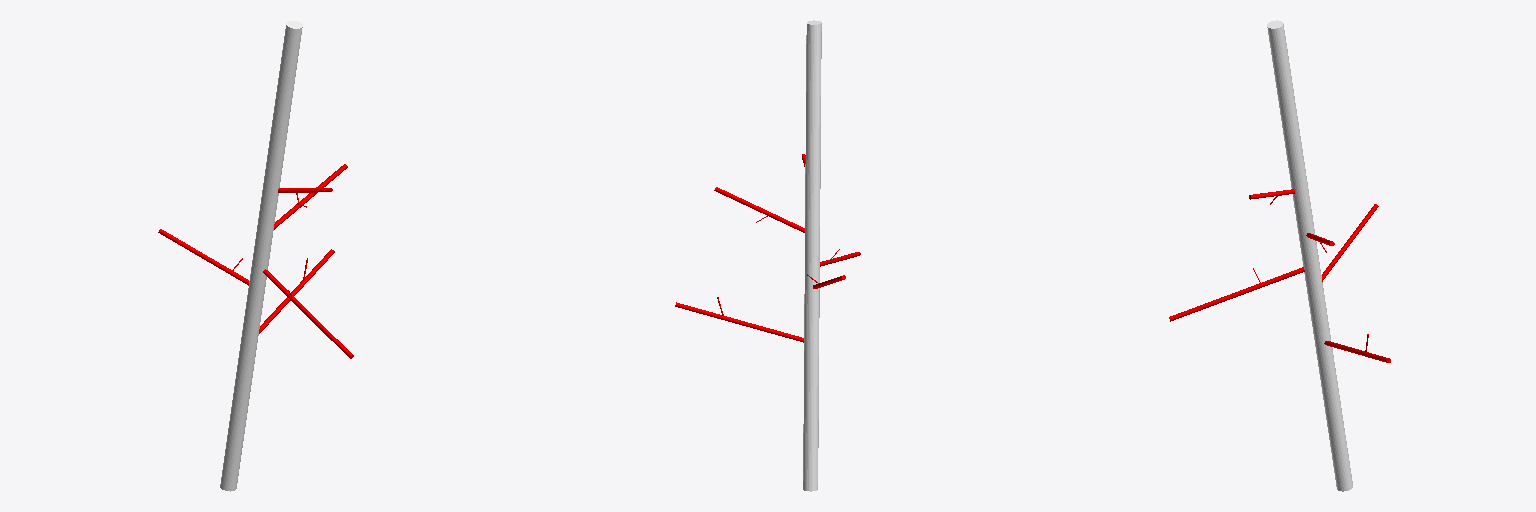
The robot description file, URDF, robot "tree_151.urdf":
<?xml version='1.0' encoding='UTF-8'?>
<robot name="tree_151.urdf">
  <link name="branch_0">
    <inertial>
      <origin xyz="0.0 0.0 0.0" rpy="0.0 -0.0 0.0"/>
      <mass value="0.1"/>
      <inertia ixx="0.001" ixy="0.0" ixz="0.0" iyy="0.001" iyz="0.0" izz="0.001"/>
    </inertial>
    <visual name="branch_0_visual">
      <geometry>
        <cylinder radius="0.1843684669169448" length="11.807824451220128"/>
      </geometry>
      <material name="branch_material"/>
      <origin xyz="0.3952940185820653 -0.7719728211829342 5.839861314272461" rpy="-1.3877787807814457e-17 0.1474351806552163 -1.0975497782615293"/>
    </visual>
    <collision name="branch_0_collision">
      <geometry>
        <cylinder radius="0.1843684669169448" length="11.807824451220128"/>
      </geometry>
      <origin xyz="0.3952940185820653 -0.7719728211829342 5.839861314272461" rpy="-1.3877787807814457e-17 0.1474351806552163 -1.0975497782615293"/>
    </collision>
  </link>
  <link name="branch_1">
    <inertial>
      <origin xyz="0.0 0.0 0.0" rpy="0.0 -0.0 0.0"/>
      <mass value="0.1"/>
      <inertia ixx="0.001" ixy="0.0" ixz="0.0" iyy="0.001" iyz="0.0" izz="0.001"/>
    </inertial>
    <visual name="branch_1_visual">
      <geometry>
        <cylinder radius="0.05433070433856177" length="3.360942453250133"/>
      </geometry>
      <material name="semantic_material"/>
      <origin xyz="0.0 0.0 0.0" rpy="0.0 -0.0 0.0"/>
    </visual>
    <collision name="branch_1_collision">
      <geometry>
        <cylinder radius="0.05433070433856177" length="3.360942453250133"/>
      </geometry>
      <origin xyz="0.0 0.0 0.0" rpy="0.0 -0.0 0.0"/>
    </collision>
  </link>
  <link name="branch_2">
    <inertial>
      <origin xyz="0.0 0.0 0.0" rpy="0.0 -0.0 0.0"/>
      <mass value="0.1"/>
      <inertia ixx="0.001" ixy="0.0" ixz="0.0" iyy="0.001" iyz="0.0" izz="0.001"/>
    </inertial>
    <visual name="branch_2_visual">
      <geometry>
        <cylinder radius="0.011386589932218654" length="0.42917379585788823"/>
      </geometry>
      <material name="semantic_material"/>
      <origin xyz="0.0 0.0 0.0" rpy="0.0 -0.0 0.0"/>
    </visual>
    <collision name="branch_2_collision">
      <geometry>
        <cylinder radius="0.011386589932218654" length="0.42917379585788823"/>
      </geometry>
      <origin xyz="0.0 0.0 0.0" rpy="0.0 -0.0 0.0"/>
    </collision>
  </link>
  <link name="branch_3">
    <inertial>
      <origin xyz="0.0 0.0 0.0" rpy="0.0 -0.0 0.0"/>
      <mass value="0.1"/>
      <inertia ixx="0.001" ixy="0.0" ixz="0.0" iyy="0.001" iyz="0.0" izz="0.001"/>
    </inertial>
    <visual name="branch_3_visual">
      <geometry>
        <cylinder radius="0.054991682069621496" length="3.4281170601098667"/>
      </geometry>
      <material name="semantic_material"/>
      <origin xyz="0.0 0.0 0.0" rpy="0.0 -0.0 0.0"/>
    </visual>
    <collision name="branch_3_collision">
      <geometry>
        <cylinder radius="0.054991682069621496" length="3.4281170601098667"/>
      </geometry>
      <origin xyz="0.0 0.0 0.0" rpy="0.0 -0.0 0.0"/>
    </collision>
  </link>
  <link name="branch_4">
    <inertial>
      <origin xyz="0.0 0.0 0.0" rpy="0.0 -0.0 0.0"/>
      <mass value="0.1"/>
      <inertia ixx="0.001" ixy="0.0" ixz="0.0" iyy="0.001" iyz="0.0" izz="0.001"/>
    </inertial>
    <visual name="branch_4_visual">
      <geometry>
        <cylinder radius="0.017578132800000243" length="0.5646324961886241"/>
      </geometry>
      <material name="semantic_material"/>
      <origin xyz="0.0 0.0 0.0" rpy="0.0 -0.0 0.0"/>
    </visual>
    <collision name="branch_4_collision">
      <geometry>
        <cylinder radius="0.017578132800000243" length="0.5646324961886241"/>
      </geometry>
      <origin xyz="0.0 0.0 0.0" rpy="0.0 -0.0 0.0"/>
    </collision>
  </link>
  <link name="branch_5">
    <inertial>
      <origin xyz="0.0 0.0 0.0" rpy="0.0 -0.0 0.0"/>
      <mass value="0.1"/>
      <inertia ixx="0.001" ixy="0.0" ixz="0.0" iyy="0.001" iyz="0.0" izz="0.001"/>
    </inertial>
    <visual name="branch_5_visual">
      <geometry>
        <cylinder radius="0.053348926852916284" length="2.497725522281918"/>
      </geometry>
      <material name="semantic_material"/>
      <origin xyz="0.0 0.0 0.0" rpy="0.0 -0.0 0.0"/>
    </visual>
    <collision name="branch_5_collision">
      <geometry>
        <cylinder radius="0.053348926852916284" length="2.497725522281918"/>
      </geometry>
      <origin xyz="0.0 0.0 0.0" rpy="0.0 -0.0 0.0"/>
    </collision>
  </link>
  <link name="branch_6">
    <inertial>
      <origin xyz="0.0 0.0 0.0" rpy="0.0 -0.0 0.0"/>
      <mass value="0.1"/>
      <inertia ixx="0.001" ixy="0.0" ixz="0.0" iyy="0.001" iyz="0.0" izz="0.001"/>
    </inertial>
    <visual name="branch_6_visual">
      <geometry>
        <cylinder radius="0.014597719540480773" length="0.4150816422447977"/>
      </geometry>
      <material name="semantic_material"/>
      <origin xyz="0.0 0.0 0.0" rpy="0.0 -0.0 0.0"/>
    </visual>
    <collision name="branch_6_collision">
      <geometry>
        <cylinder radius="0.014597719540480773" length="0.4150816422447977"/>
      </geometry>
      <origin xyz="0.0 0.0 0.0" rpy="0.0 -0.0 0.0"/>
    </collision>
  </link>
  <link name="branch_7">
    <inertial>
      <origin xyz="0.0 0.0 0.0" rpy="0.0 -0.0 0.0"/>
      <mass value="0.1"/>
      <inertia ixx="0.001" ixy="0.0" ixz="0.0" iyy="0.001" iyz="0.0" izz="0.001"/>
    </inertial>
    <visual name="branch_7_visual">
      <geometry>
        <cylinder radius="0.05264427694045857" length="1.457567178065917"/>
      </geometry>
      <material name="semantic_material"/>
      <origin xyz="0.0 0.0 0.0" rpy="0.0 -0.0 0.0"/>
    </visual>
    <collision name="branch_7_collision">
      <geometry>
        <cylinder radius="0.05264427694045857" length="1.457567178065917"/>
      </geometry>
      <origin xyz="0.0 0.0 0.0" rpy="0.0 -0.0 0.0"/>
    </collision>
  </link>
  <link name="branch_8">
    <inertial>
      <origin xyz="0.0 0.0 0.0" rpy="0.0 -0.0 0.0"/>
      <mass value="0.1"/>
      <inertia ixx="0.001" ixy="0.0" ixz="0.0" iyy="0.001" iyz="0.0" izz="0.001"/>
    </inertial>
    <visual name="branch_8_visual">
      <geometry>
        <cylinder radius="0.01508685359729707" length="0.35459258456645987"/>
      </geometry>
      <material name="semantic_material"/>
      <origin xyz="0.0 0.0 0.0" rpy="0.0 -0.0 0.0"/>
    </visual>
    <collision name="branch_8_collision">
      <geometry>
        <cylinder radius="0.01508685359729707" length="0.35459258456645987"/>
      </geometry>
      <origin xyz="0.0 0.0 0.0" rpy="0.0 -0.0 0.0"/>
    </collision>
  </link>
  <link name="branch_9">
    <inertial>
      <origin xyz="0.0 0.0 0.0" rpy="0.0 -0.0 0.0"/>
      <mass value="0.1"/>
      <inertia ixx="0.001" ixy="0.0" ixz="0.0" iyy="0.001" iyz="0.0" izz="0.001"/>
    </inertial>
    <visual name="branch_9_visual">
      <geometry>
        <cylinder radius="0.05619829342944536" length="2.6167535926965932"/>
      </geometry>
      <material name="semantic_material"/>
      <origin xyz="0.0 0.0 0.0" rpy="0.0 -0.0 0.0"/>
    </visual>
    <collision name="branch_9_collision">
      <geometry>
        <cylinder radius="0.05619829342944536" length="2.6167535926965932"/>
      </geometry>
      <origin xyz="0.0 0.0 0.0" rpy="0.0 -0.0 0.0"/>
    </collision>
  </link>
  <link name="branch_10">
    <inertial>
      <origin xyz="0.0 0.0 0.0" rpy="0.0 -0.0 0.0"/>
      <mass value="0.1"/>
      <inertia ixx="0.001" ixy="0.0" ixz="0.0" iyy="0.001" iyz="0.0" izz="0.001"/>
    </inertial>
    <visual name="branch_10_visual">
      <geometry>
        <cylinder radius="0.011596940950563938" length="0.402033849259212"/>
      </geometry>
      <material name="semantic_material"/>
      <origin xyz="0.0 0.0 0.0" rpy="0.0 -0.0 0.0"/>
    </visual>
    <collision name="branch_10_collision">
      <geometry>
        <cylinder radius="0.011596940950563938" length="0.402033849259212"/>
      </geometry>
      <origin xyz="0.0 0.0 0.0" rpy="0.0 -0.0 0.0"/>
    </collision>
  </link>
  <joint name="joint_0_1" type="fixed">
    <parent link="branch_0"/>
    <child link="branch_1"/>
    <axis xyz="1. 0. 0."/>
    <origin xyz="0.6366299504240588 -2.3119110687393167 5.04886086495073" rpy="-3.0040817164368465 1.2497623608524573 1.8787894284288538"/>
  </joint>
  <joint name="joint_0_3" type="fixed">
    <parent link="branch_0"/>
    <child link="branch_3"/>
    <axis xyz="1. 0. 0."/>
    <origin xyz="1.7303324194985172 0.24452496589535894 4.132338269560137" rpy="0.502745753707579 1.261087965871386 0.9815350551712648"/>
  </joint>
  <joint name="joint_0_5" type="fixed">
    <parent link="branch_0"/>
    <child link="branch_5"/>
    <axis xyz="1. 0. 0."/>
    <origin xyz="-0.5038555492381663 0.01829760708509509 5.654237158804488" rpy="-0.11284091542340409 1.0532345958043354 2.331041727917832"/>
  </joint>
  <joint name="joint_0_7" type="fixed">
    <parent link="branch_0"/>
    <child link="branch_7"/>
    <axis xyz="1. 0. 0."/>
    <origin xyz="0.9580557125589917 -1.5476213626902855 7.618606746133634" rpy="0.17481258543211053 1.3897091489978088 -0.712923014123712"/>
  </joint>
  <joint name="joint_0_9" type="fixed">
    <parent link="branch_0"/>
    <child link="branch_9"/>
    <axis xyz="1. 0. 0."/>
    <origin xyz="1.6304780955050193 -0.5644498754932163 6.823790103044749" rpy="0.40178920319277805 1.192986553823395 0.6573651951884651"/>
  </joint>
  <joint name="joint_1_2" type="fixed">
    <parent link="branch_0"/>
    <child link="branch_2"/>
    <axis xyz="1. 0. 0."/>
    <origin xyz="0.4583758317384596 -1.9437849013709247 5.366062618798831" rpy="-0.6010946203833399 -0.415565004345627 1.8037545953796976"/>
  </joint>
  <joint name="joint_3_4" type="fixed">
    <parent link="branch_0"/>
    <child link="branch_4"/>
    <axis xyz="1. 0. 0."/>
    <origin xyz="2.2360066058501005 0.48538288809820196 4.538784451777887" rpy="-0.031035840269652244 -0.2688400022834896 -2.6671092135889625"/>
  </joint>
  <joint name="joint_5_6" type="fixed">
    <parent link="branch_0"/>
    <child link="branch_6"/>
    <axis xyz="1. 0. 0."/>
    <origin xyz="0.06170580771680639 -0.2673034082248512 5.481687638883786" rpy="-0.7950067145343868 0.6425747207180362 -0.8251956507176489"/>
  </joint>
  <joint name="joint_7_8" type="fixed">
    <parent link="branch_0"/>
    <child link="branch_8"/>
    <axis xyz="1. 0. 0."/>
    <origin xyz="0.8655114605343032 -1.5586557535043821 7.453444213419712" rpy="-2.6371067275806794 0.3777074942418841 2.361136529885577"/>
  </joint>
  <joint name="joint_9_10" type="fixed">
    <parent link="branch_0"/>
    <child link="branch_10"/>
    <axis xyz="1. 0. 0."/>
    <origin xyz="1.6200403566784976 -0.5037211849681792 6.664070116196513" rpy="2.535898108434154 0.8998881604305925 3.0101972378604795"/>
  </joint>
  <material name="branch_material">
    <color rgba="1. 1. 1. 1."/>
  </material>
  <material name="semantic_material">
    <color rgba="1. 0. 0. 1."/>
  </material>
</robot>

--- Facts derived from the render (not from the file) ---
Views: 3 orthographic renders of the robot side by side, from view 1: azimuth 30°, elevation 25°; view 2: azimuth 150°, elevation 25°; view 3: azimuth 270°, elevation 25°.
Robot: tree_151.urdf — 11 links, 10 joints (10 fixed); root link branch_0; default pose: all joints at 0.
Visible links, largest first — view 1: branch_0, branch_1; view 2: branch_0, branch_3; view 3: branch_0, branch_1.
Boxes of the visible links, x1,y1,x2,y2 form: branch_0: (220,20,302,491); branch_1: (263,269,353,358); branch_0: (803,20,821,491); branch_3: (675,302,803,342); branch_0: (1267,20,1352,491); branch_1: (1169,267,1304,321).
Size in the robot's own frame: 4.63 by 4.93 by 11.73 metres.
Geometry: primitives only (box / cylinder / sphere), no mesh files.
